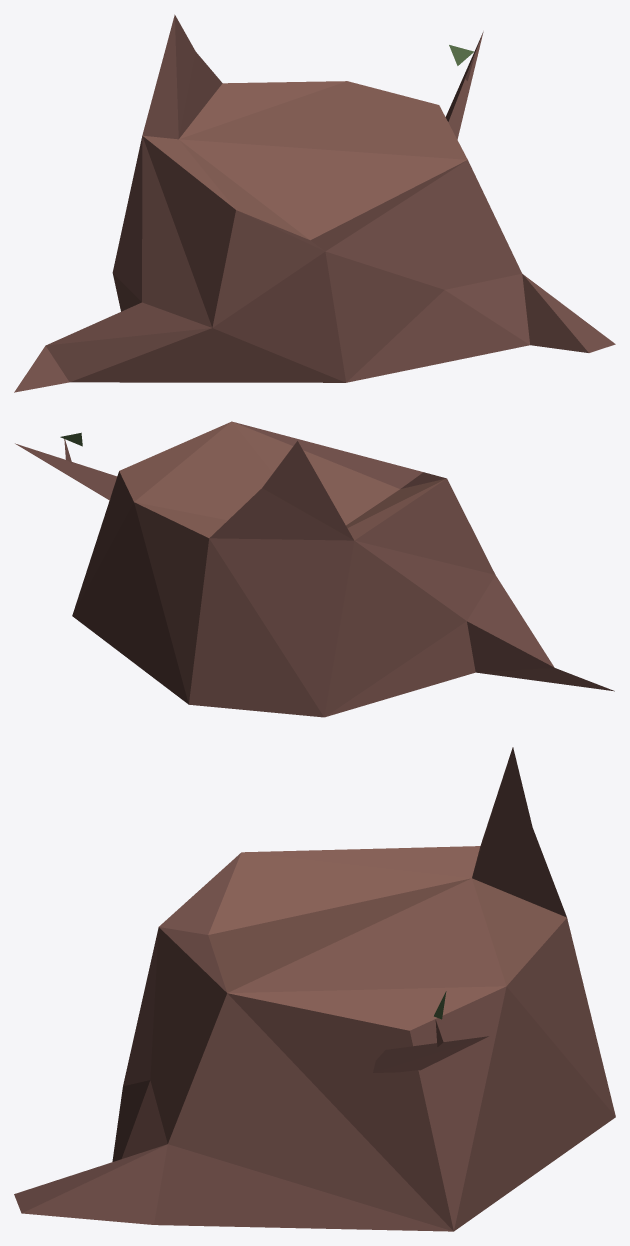
The model's file is TreeStump.lod2.glb.
3 renders of one model, top to bottom at view 1: azimuth 30°, elevation 25°; view 2: azimuth 150°, elevation 25°; view 3: azimuth 270°, elevation 25°, orthographic. The views are drawn at different scales.
Parts seen in each view (by area): view 1: TreeStump; view 2: TreeStump; view 3: TreeStump.
Part boxes in pixels (left/top/right/bottom): TreeStump: left=14, top=14, right=615, bottom=392; TreeStump: left=15, top=421, right=614, bottom=717; TreeStump: left=14, top=747, right=615, bottom=1231.
Bounding box in the file's own units: 1.33 × 0.612 × 1.01.
